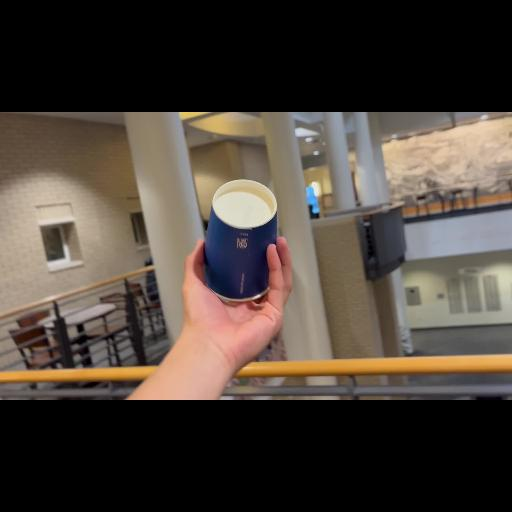lp_paper_cup: (202, 177, 280, 305)
